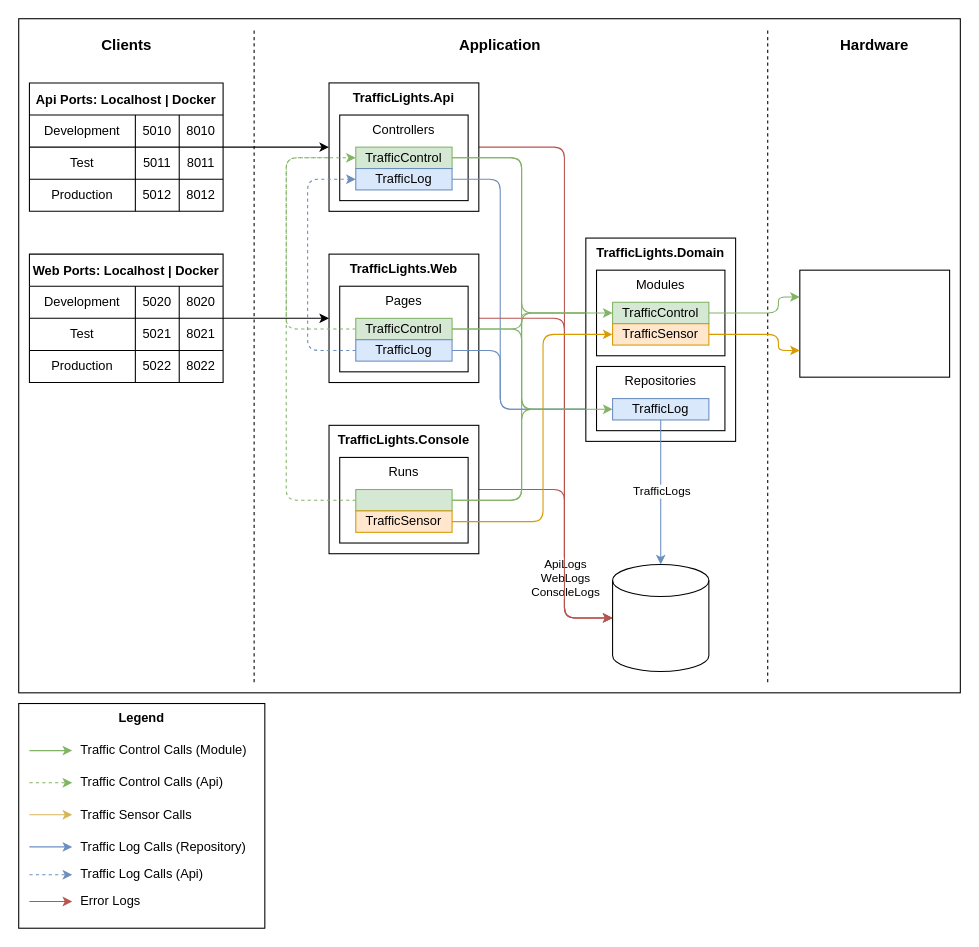
Some shapes in this 979 by 947 pixel diagram are drawn without their labels. The centre of each missing label's shape, as x and y in pixels:
"Database TrafficLights MySQL MongoDB" goes at [660,617].
"Raspberry Pi GPIO" goes at [874,323].
"TrafficTimer" goes at [403,499].
